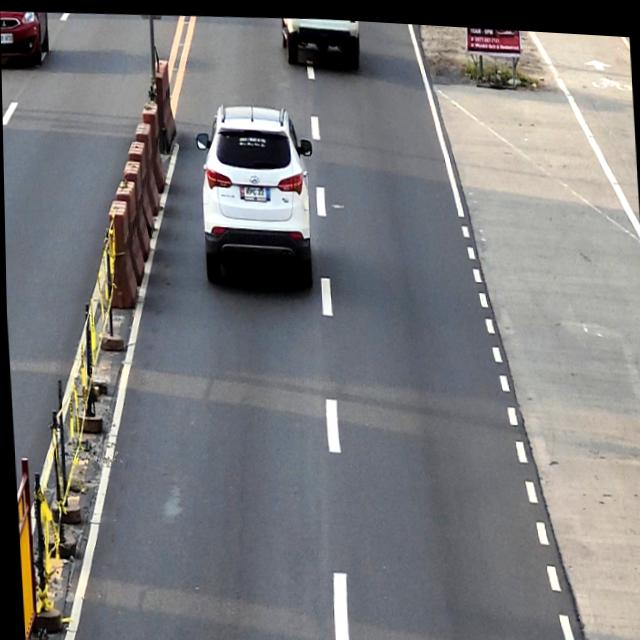Car: (192, 98, 318, 290), (280, 13, 361, 73), (0, 9, 51, 72)
License-Plate: (243, 183, 265, 199), (1, 33, 12, 45)
